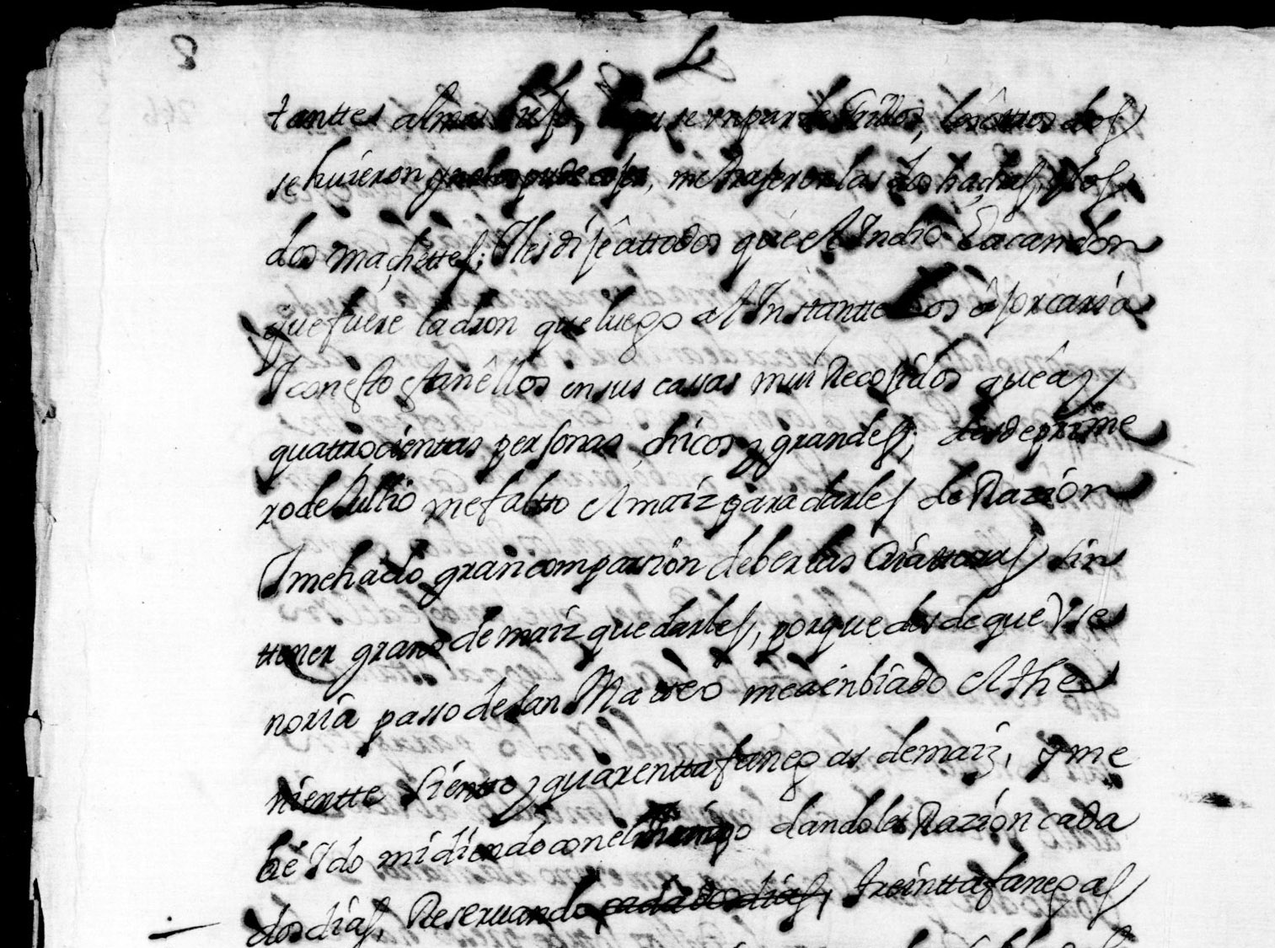lacandon: (956, 205, 1163, 254)
